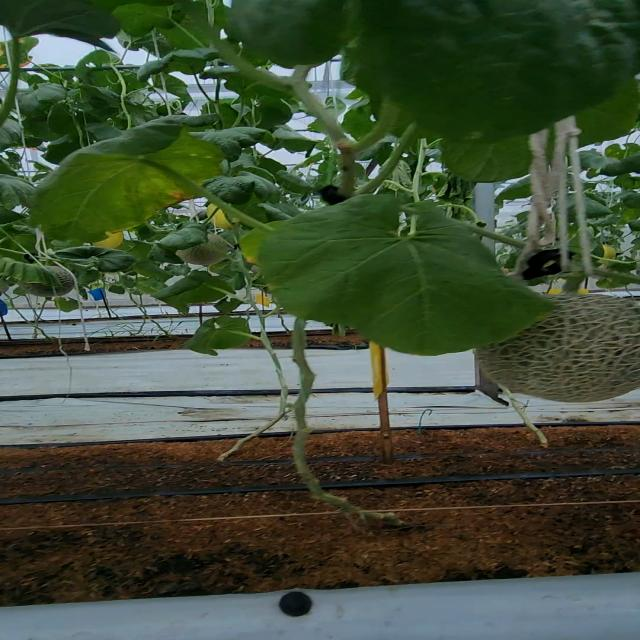Front-melon: (486, 332, 640, 402)
